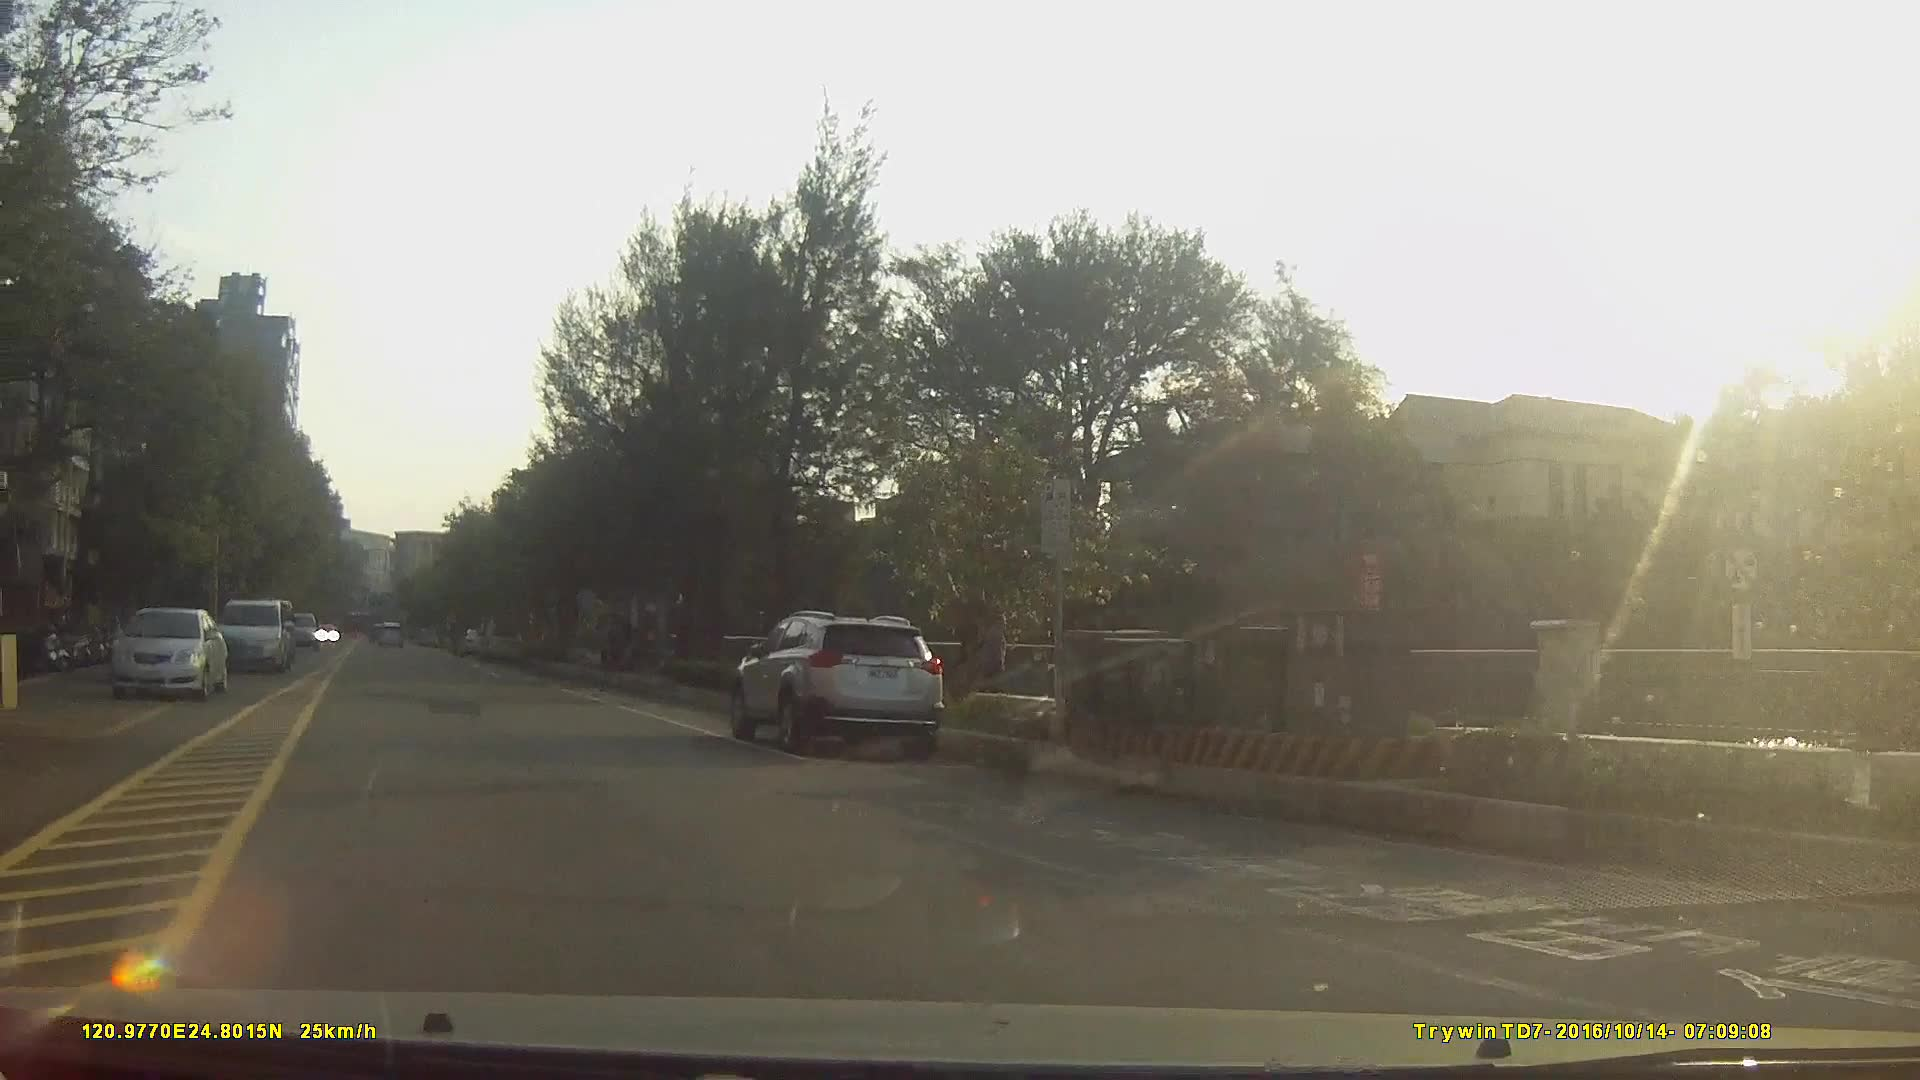vehicle: (732, 611, 942, 752), (108, 607, 228, 698), (219, 600, 291, 674), (473, 617, 526, 665), (277, 608, 318, 653)
